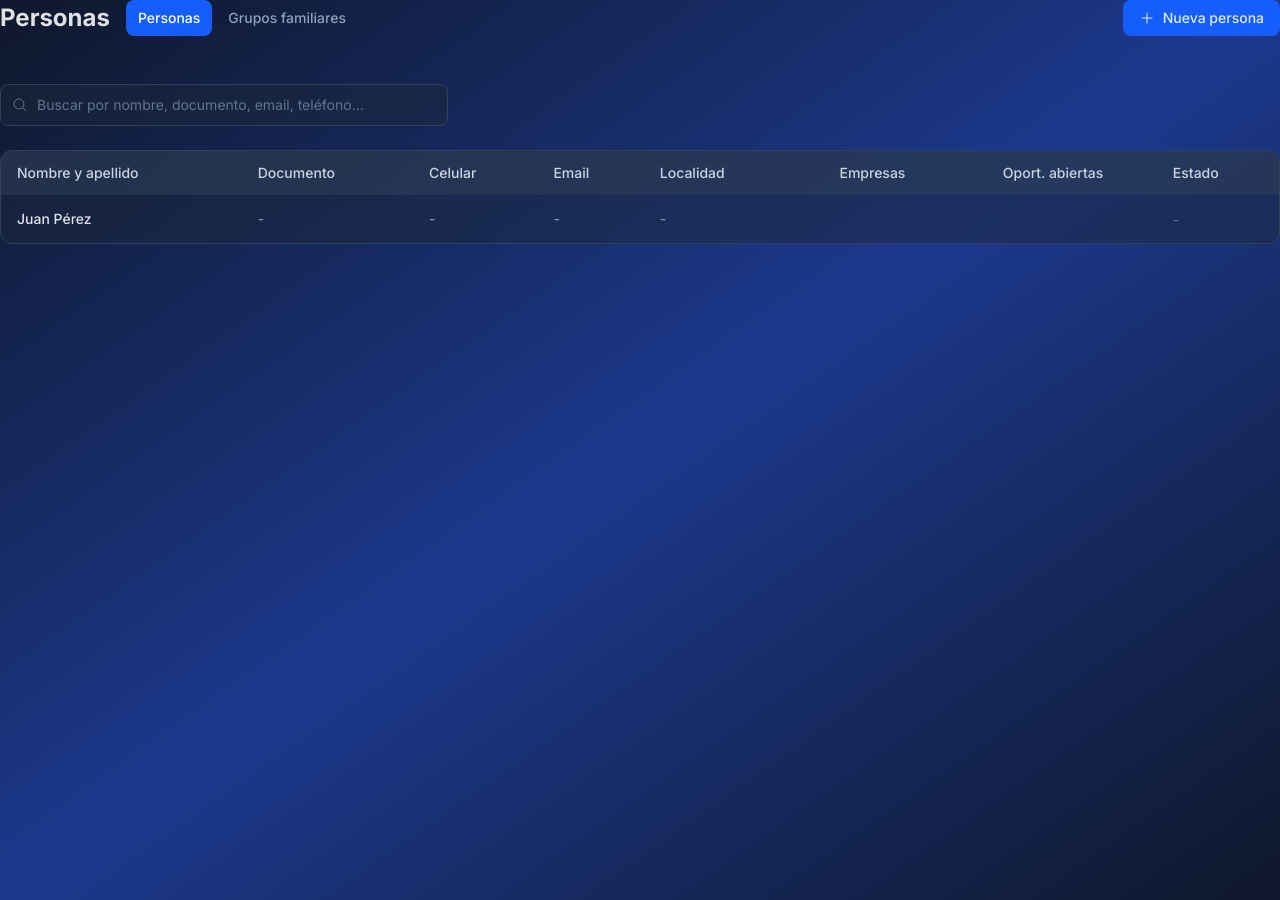
ficha de persona: toggle "Excluir WhatsApp" y marca NO CONTACTAR › la marca NO CONTACTAR se ve en la cabecera con su motivo
Click the text "Juan Pérez".
click(33, 218)  # box [17,210,92,227]
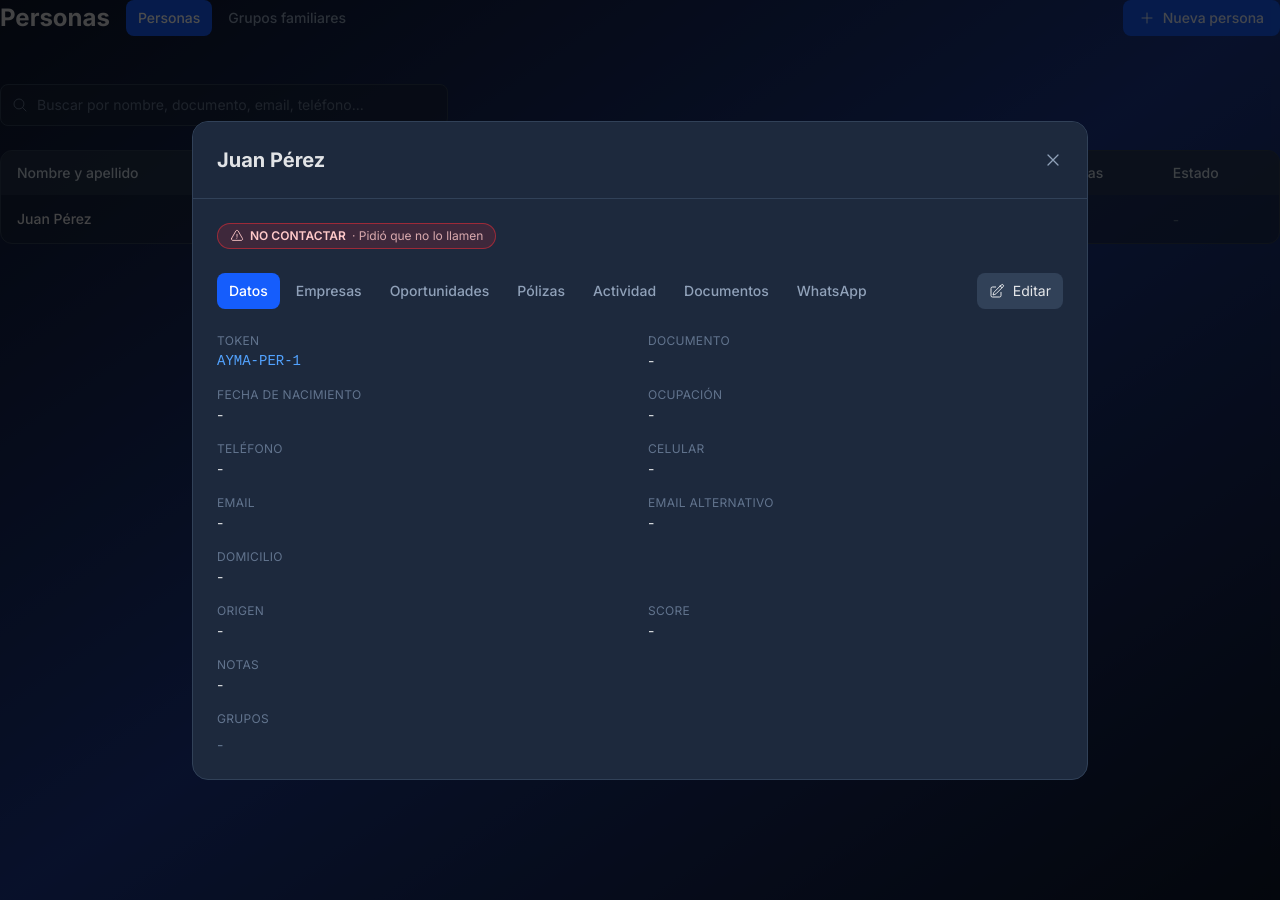
Now the text "NO CONTACTAR · Pidió que no lo llamen" is shown, box [217,222,496,248]
Now the text "· Pidió que no lo llamen" is shown, box [352,228,483,244]
